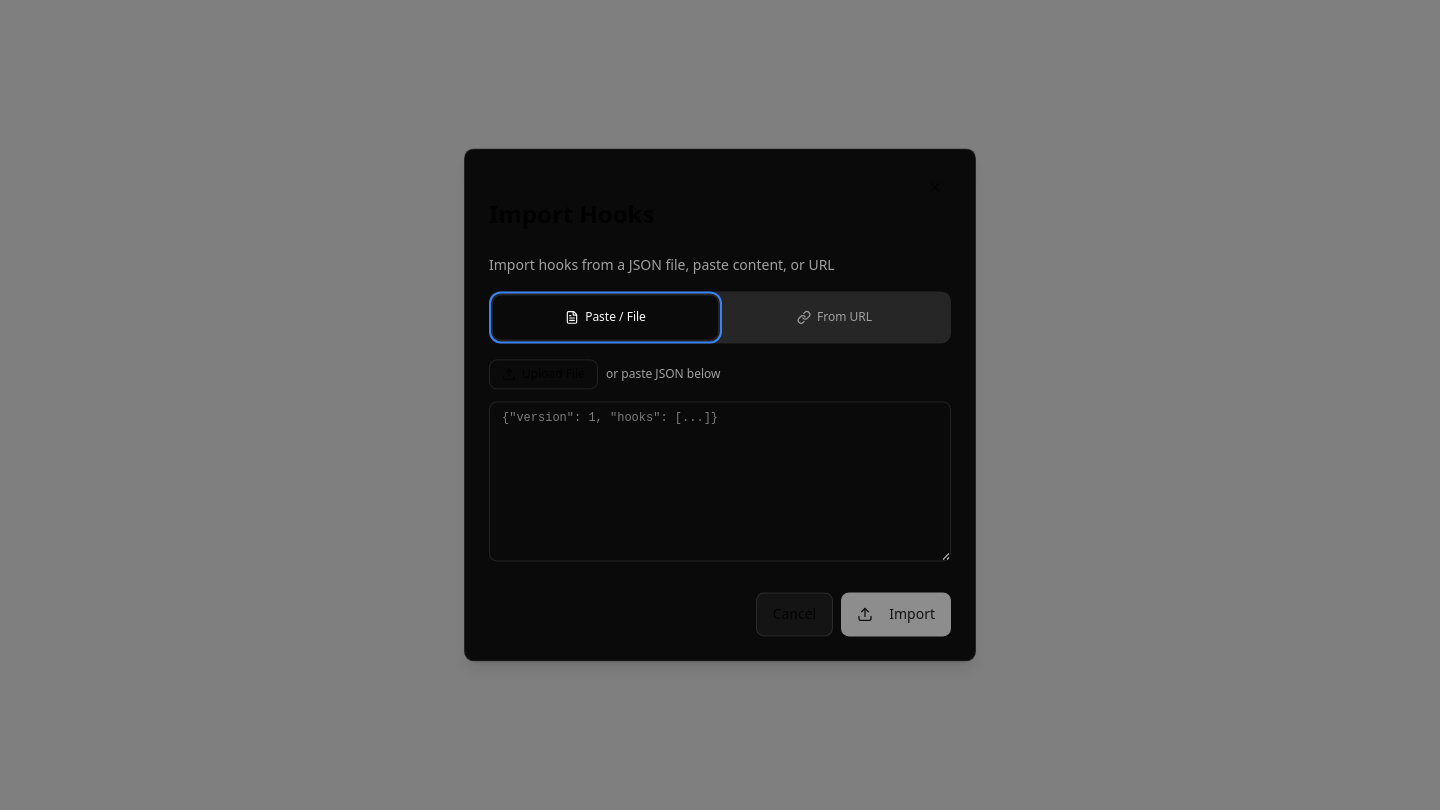
Test: HookImportDialog › should show error for invalid JSON
Click the text box named "Hook JSON content". click: {"x": 720, "y": 481}
box: [489,401,951,561]
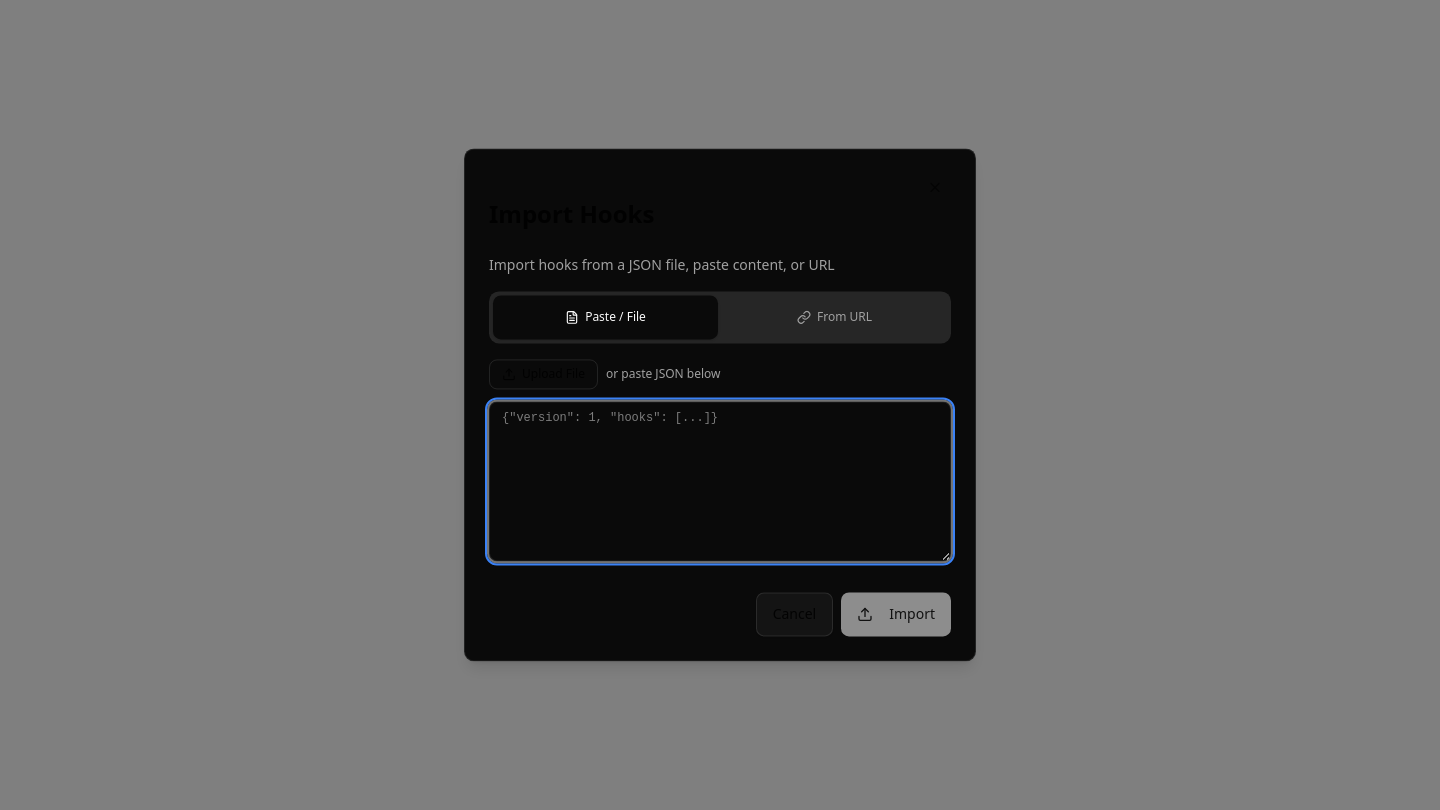
Type keys "invalid json"
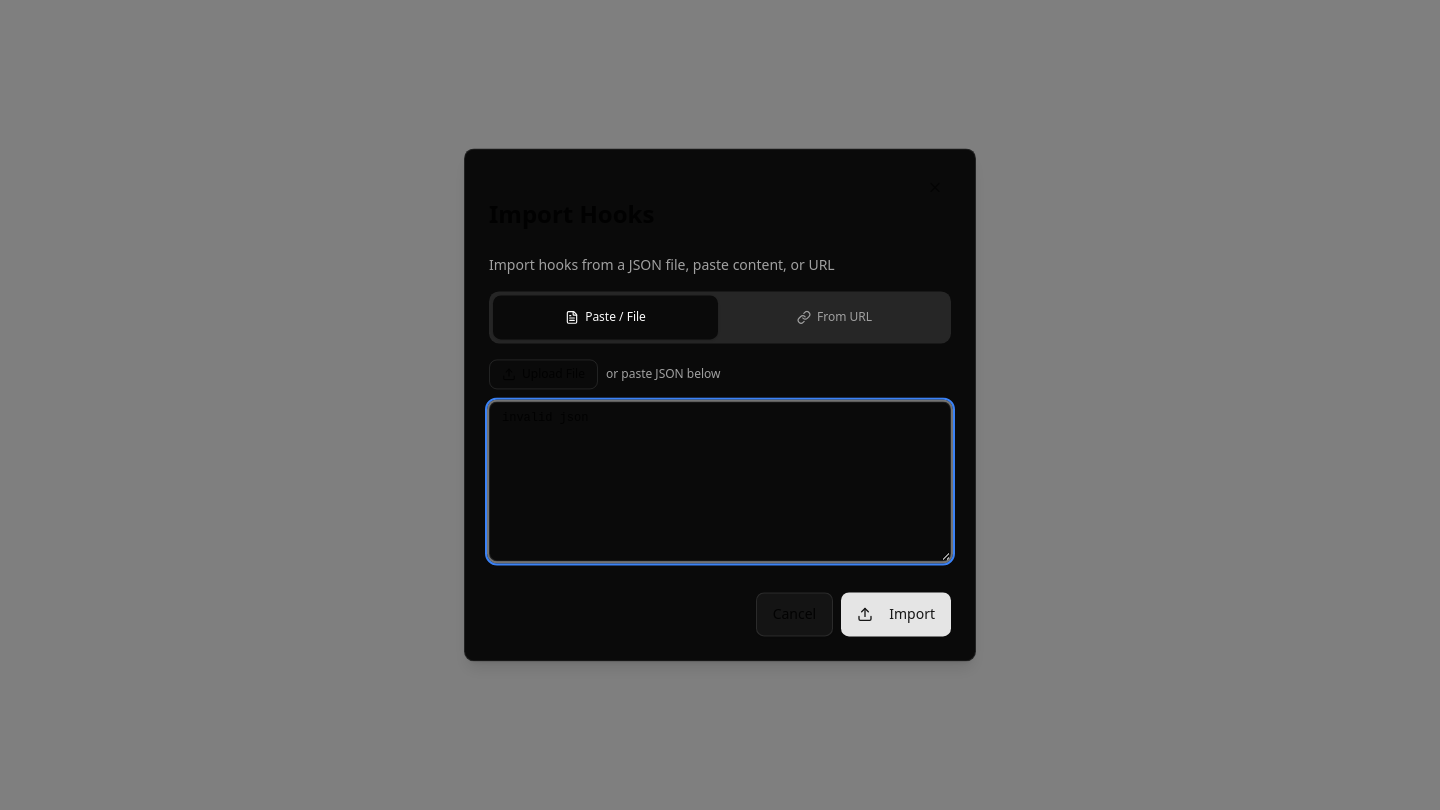
Click the button "Import". click: {"x": 896, "y": 615}
box: [841,593,951,637]
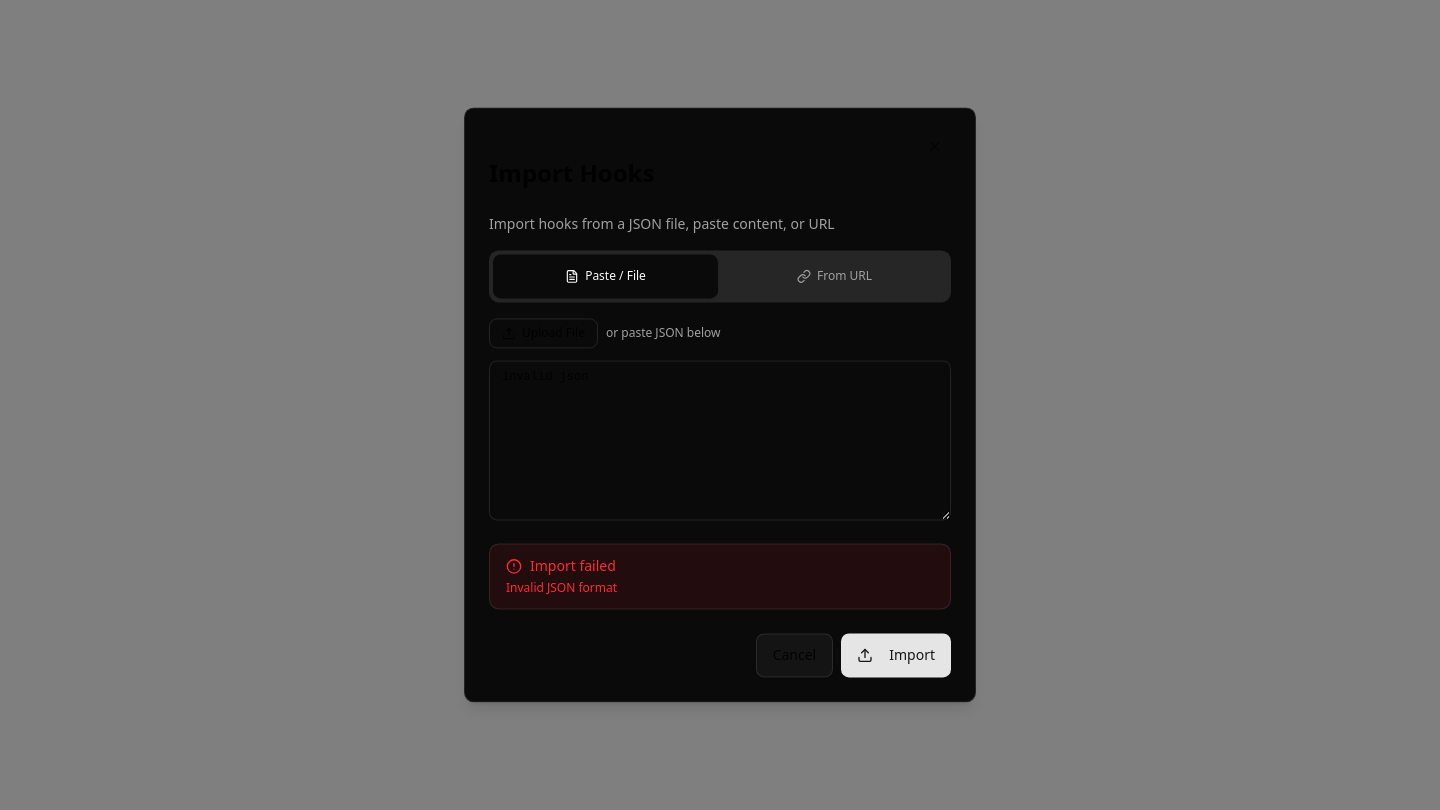
Now the text "Import failed" is shown, box [530,557,616,577]
